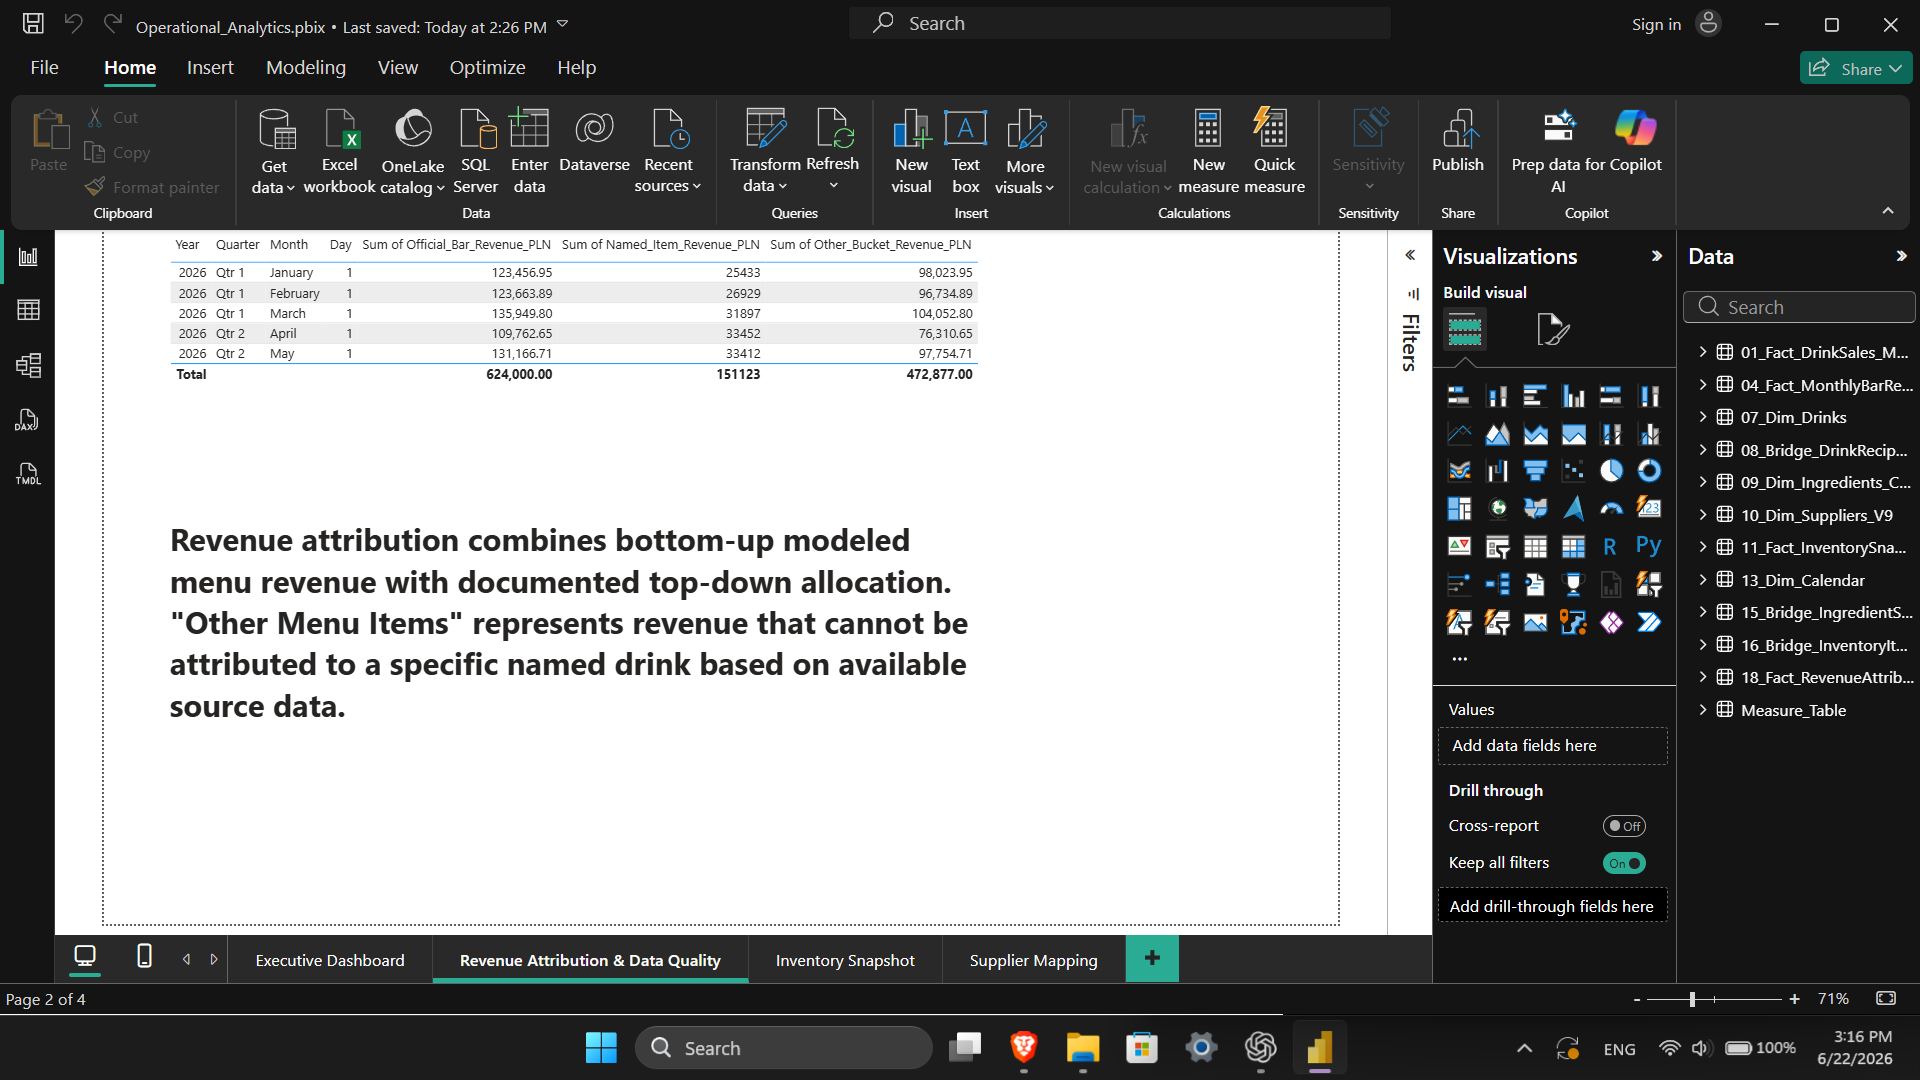

The dashboard page shown, as its layout file describes it:
{"tool":"powerbi","page":{"name":"Revenue Attribution & Data Quality","canvas":[1280,720],"ordinal":1},"visuals":[{"type":"tableEx","fields":{"Values":["18_Fact_RevenueAttribution.Month.Variation.Date Hierarchy.Year","18_Fact_RevenueAttribution.Month.Variation.Date Hierarchy.Quarter","18_Fact_RevenueAttribution.Month.Variation.Date Hierarchy.Month","18_Fact_RevenueAttribution.Month.Variation.Date Hierarchy.Day","Sum(18_Fact_RevenueAttribution.Official_Bar_Revenue_PLN)","Sum(18_Fact_RevenueAttribution.Named_Item_Revenue_PLN)","Sum(18_Fact_RevenueAttribution.Other_Bucket_Revenue_PLN)"]},"box":[63.8,0,1216.2,293.8],"z":0},{"type":"textbox","box":[63.8,293.8,851.2,280],"z":1000}]}

Visuals, with their boxes on the page's 1280x720 design canvas (x1, y1, x2, y2). These are canvas units, not pixel positions in the 1920x1080 screenshot, which may show the page scaled, cropped or inside an application window:
tableEx - 18_Fact_RevenueAttribution.Month.Variation.Date Hierarchy.Year x 18_Fact_RevenueAttribution.Month.Variation.Date Hierarchy.Quarter: 64, 0, 1280, 294
textbox: 64, 294, 915, 574
